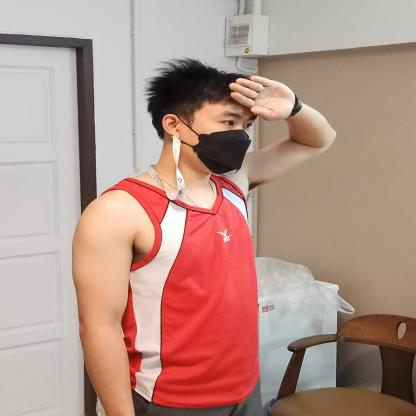Sick: (220, 68, 342, 195)
